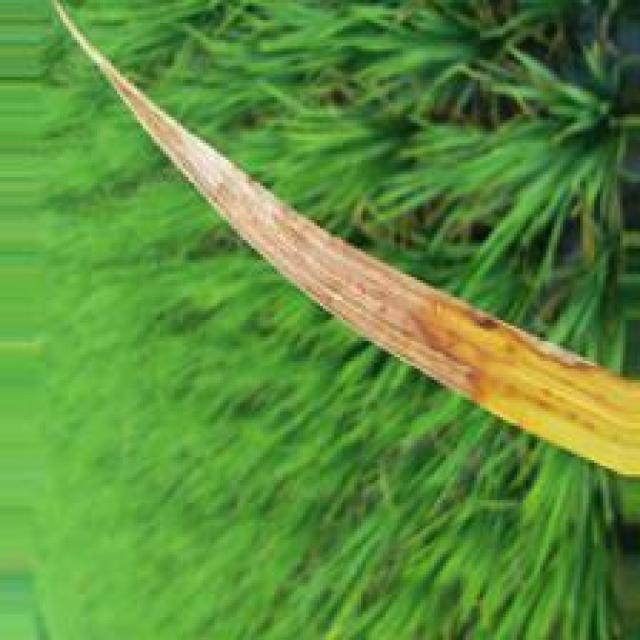Leaf_Scald: (59, 9, 612, 412)
